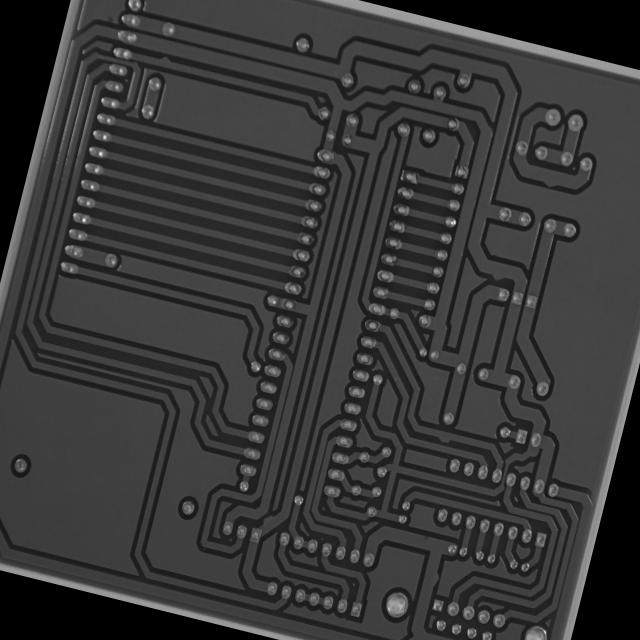spur: (485, 264, 512, 288), (151, 50, 178, 70), (256, 510, 280, 530), (434, 427, 456, 447), (539, 173, 561, 192)
